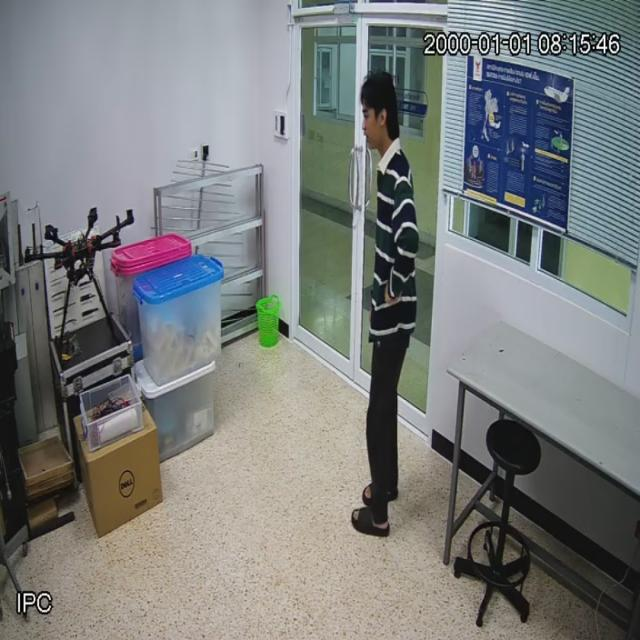normal: (351, 70, 419, 532)
